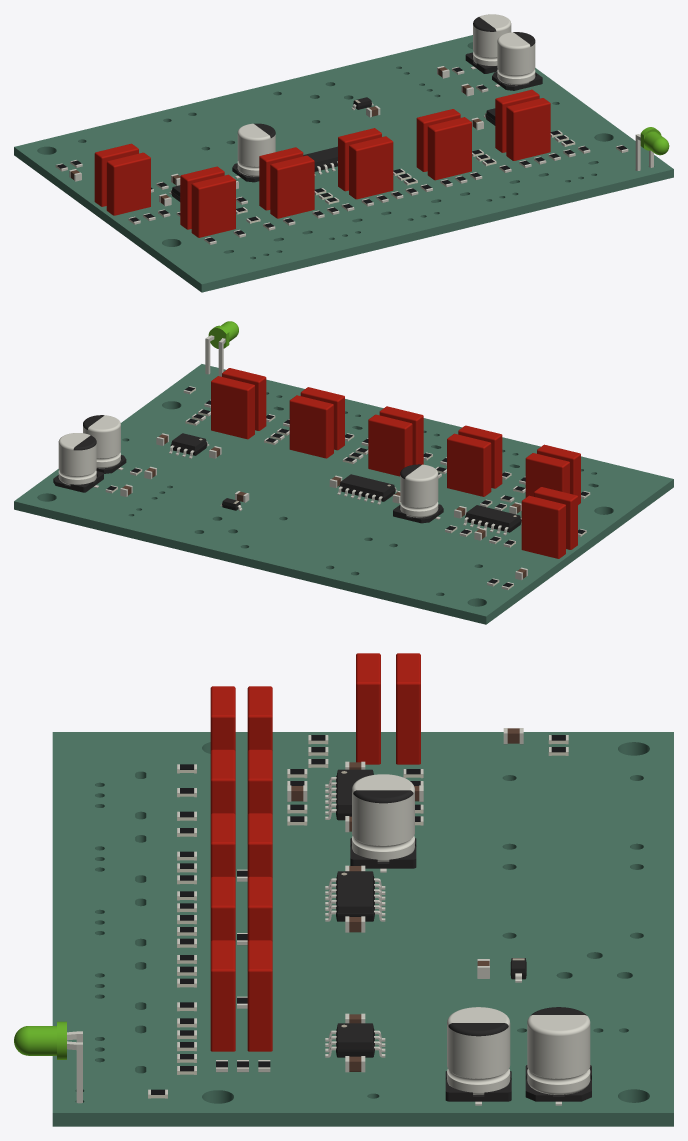
File: pcb.glb
3 views of the same model, one above another, from view 1: azimuth 30°, elevation 25°; view 2: azimuth 150°, elevation 25°; view 3: azimuth 270°, elevation 25° (orthographic). The views are drawn at different scales.
Visible parts, largest first — view 1: =>[0:1:1:18], =>[0:1:1:9] (×12), =>[0:1:1:13] (×3), =>[0:1:1:17], =>[0:1:1:11]; view 2: =>[0:1:1:18], =>[0:1:1:9] (×12), =>[0:1:1:13] (×3), =>[0:1:1:11] (×2), =>[0:1:1:17], =>[0:1:1:5]; view 3: =>[0:1:1:18], =>[0:1:1:9] (×12), =>[0:1:1:13] (×3), =>[0:1:1:11] (×2), =>[0:1:1:17], =>[0:1:1:5].
Boxes of the visible parts, box(x1,y1,x2,y2) form: =>[0:1:1:18]: box(14, 35, 673, 292); =>[0:1:1:9] (×12): box(94, 89, 550, 237); =>[0:1:1:13] (×3): box(232, 14, 542, 182); =>[0:1:1:17]: box(635, 127, 669, 170); =>[0:1:1:11]: box(303, 146, 337, 175); =>[0:1:1:18]: box(14, 364, 673, 624); =>[0:1:1:9] (×12): box(211, 368, 580, 558); =>[0:1:1:13] (×3): box(53, 415, 443, 523); =>[0:1:1:11] (×2): box(337, 474, 521, 535); =>[0:1:1:17]: box(205, 321, 238, 376); =>[0:1:1:5]: box(169, 433, 209, 458); =>[0:1:1:18]: box(52, 732, 673, 1126); =>[0:1:1:9] (×12): box(210, 653, 420, 1051); =>[0:1:1:13] (×3): box(350, 774, 591, 1105); =>[0:1:1:11] (×2): box(325, 769, 385, 921); =>[0:1:1:17]: box(14, 1021, 82, 1103); =>[0:1:1:5]: box(325, 1023, 385, 1057).
Bounding box in the file's own units: 0.09 × 0.011 × 0.0659.
